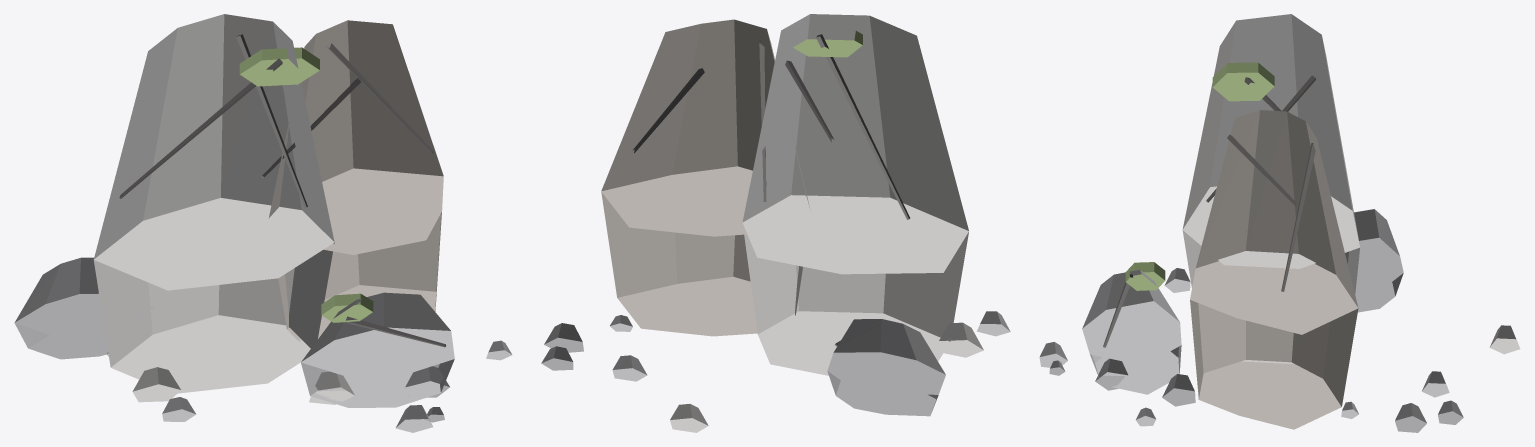
Rendered from stone_3.glb.
3 renders of one model, left to right at view 1: azimuth 30°, elevation 25°; view 2: azimuth 150°, elevation 25°; view 3: azimuth 270°, elevation 25°, orthographic. The views are drawn at different scales.
Parts seen in each view (by area): view 1: Boulder#2, Boulder#4, Boulder, Boulder#6, Boulder#3, Boulder#8, Boulder#5, Moss, Boulder#7, Pebble#9, Moss#2, Crack#2 (+8 smaller); view 2: Boulder#2, Boulder#4, Boulder, Boulder#3, Boulder#8, Boulder#7, Pebble#9, Crack#2, Moss, Pebble#6, Pebble#5, Pebble#4 (+5 smaller); view 3: Boulder#4, Boulder#2, Boulder#3, Boulder#6, Boulder#8, Boulder#5, Moss, Boulder, Moss#2, Boulder#7, Pebble#14, Crack#3 (+8 smaller).
Boxes of the visible parts, x1,y1,x2,y2 form: Boulder#2: (93,14,334,290); Boulder#4: (268,20,443,254); Boulder: (93,242,334,393); Boulder#6: (301,292,454,376); Boulder#3: (278,212,441,342); Boulder#8: (14,257,154,335); Boulder#5: (301,359,454,407); Moss: (239,47,319,86); Boulder#7: (14,323,107,359); Pebble#9: (132,367,180,402); Moss#2: (321,293,373,322); Crack#2: (119,58,282,198); Boulder#2: (742,14,968,274); Boulder#4: (601,19,809,236); Boulder: (742,223,968,375); Boulder#3: (601,192,802,336); Boulder#8: (827,319,945,394); Boulder#7: (827,371,938,416); Pebble#9: (938,322,983,357); Crack#2: (816,34,909,219); Moss: (793,31,862,57); Pebble#6: (670,404,708,432); Pebble#5: (544,323,583,352); Pebble#4: (612,355,647,381); Boulder#4: (1190,110,1358,334); Boulder#2: (1182,14,1359,268); Boulder#3: (1190,300,1358,429); Boulder#6: (1082,269,1181,365); Boulder#8: (1354,209,1403,291); Boulder#5: (1090,345,1181,394); Moss: (1212,62,1274,101); Boulder: (1182,230,1359,364); Moss#2: (1125,262,1165,290); Boulder#7: (1355,273,1403,312); Pebble#14: (1162,374,1195,406); Crack#3: (1281,143,1315,291).
Size of the model in its own units: 2.6 by 2 by 3.05.
